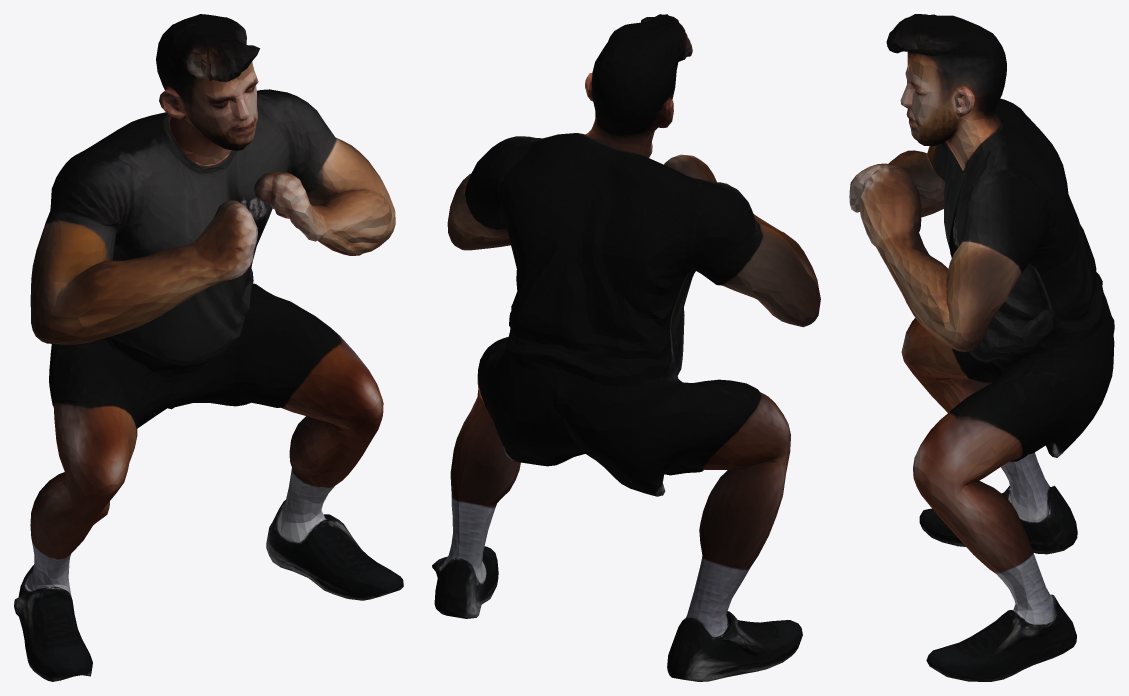
Rendered from man.glb.
3 renders of one model, left to right at view 1: azimuth 30°, elevation 25°; view 2: azimuth 150°, elevation 25°; view 3: azimuth 270°, elevation 25°, orthographic. The views are drawn at different scales.
Parts seen in each view (by area): view 1: world; view 2: world; view 3: world.
Boxes of the visible parts, left/top/right/bottom form: world: left=14, top=14, right=403, bottom=681; world: left=432, top=14, right=820, bottom=681; world: left=849, top=14, right=1114, bottom=681.
Size of the model in its own units: 0.6304 by 0.9987 by 0.4177.
1 material, 1 textured.
